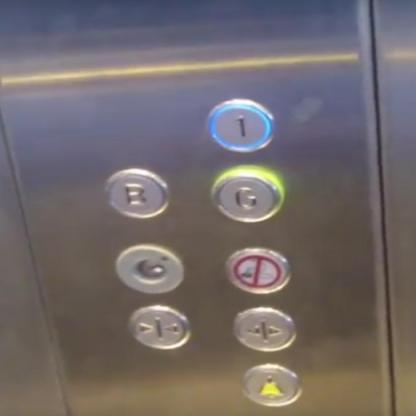1: (202, 96, 280, 154)
B: (99, 165, 172, 221)
G: (207, 162, 287, 225)
alarm: (236, 360, 305, 409)
close: (123, 302, 193, 352)
keyhole: (110, 242, 188, 297)
open: (229, 304, 300, 354)
unknown: (220, 245, 293, 296)
